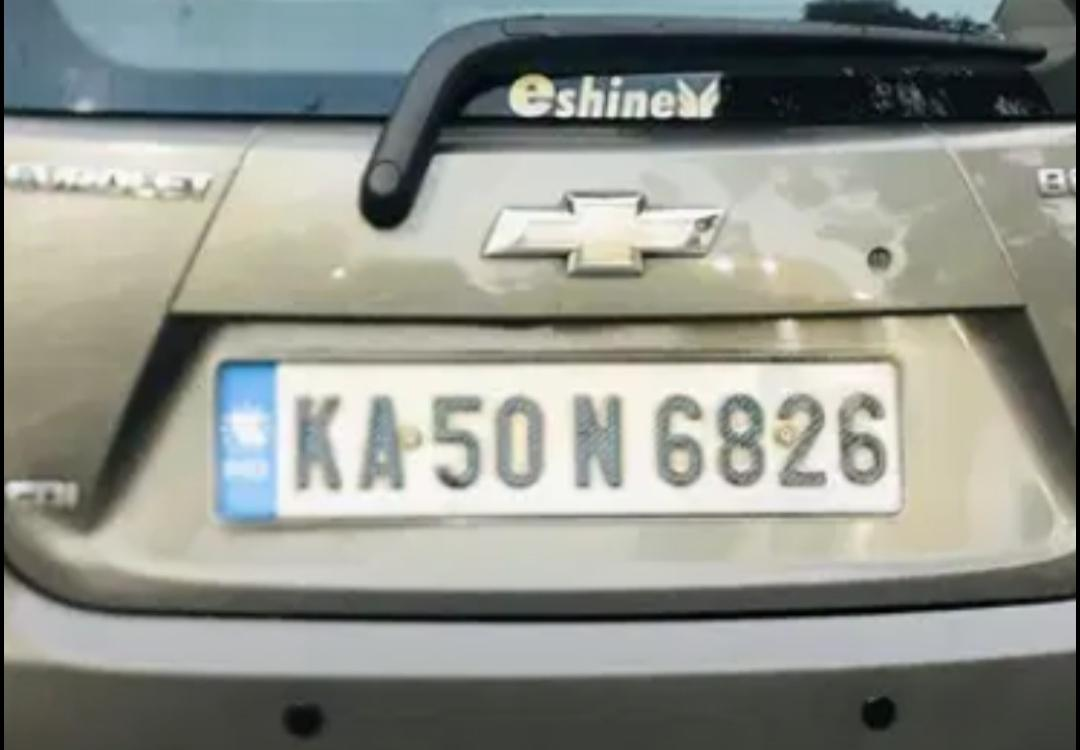0: (487, 387, 549, 497)
2: (775, 394, 833, 499)
5: (424, 384, 488, 498)
6: (839, 382, 903, 489), (652, 387, 706, 490)
8: (710, 380, 770, 489)
A: (352, 387, 408, 502)
K: (285, 382, 346, 503)
N: (564, 385, 630, 493)
